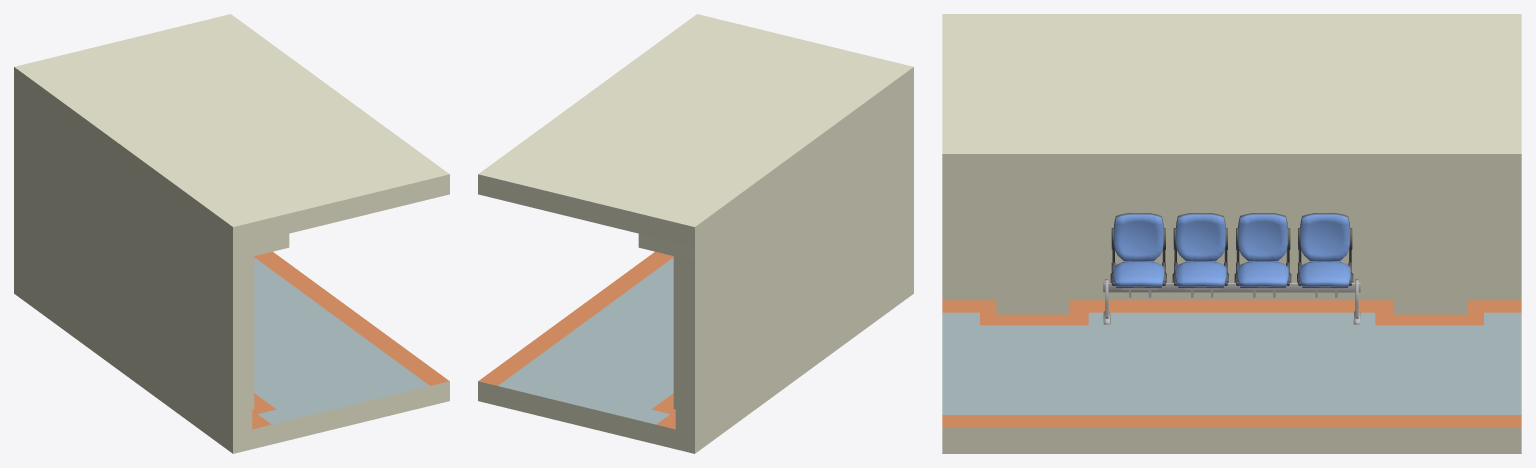
Rendered from hospital_corridor_maptiles_02.fbx.
3 views of the same model, side by side, from view 1: azimuth 30°, elevation 25°; view 2: azimuth 150°, elevation 25°; view 3: azimuth 270°, elevation 25° (orthographic). The views are drawn at different scales.
Visible parts, largest first — view 1: wall.002, columns; view 2: wall.002, columns; view 3: wall.002, columns, Cube.017, Cube.008.
Boxes of the visible parts, x1,y1,x2,y2 form: wall.002: [14, 14, 449, 453]; columns: [252, 256, 254, 409]; wall.002: [478, 14, 913, 453]; columns: [673, 256, 675, 409]; wall.002: [942, 14, 1521, 453]; columns: [996, 180, 1467, 314]; Cube.017: [1110, 213, 1353, 297]; Cube.008: [1103, 282, 1360, 292].
Bounding box in the file's own units: 400 × 400 × 700.
